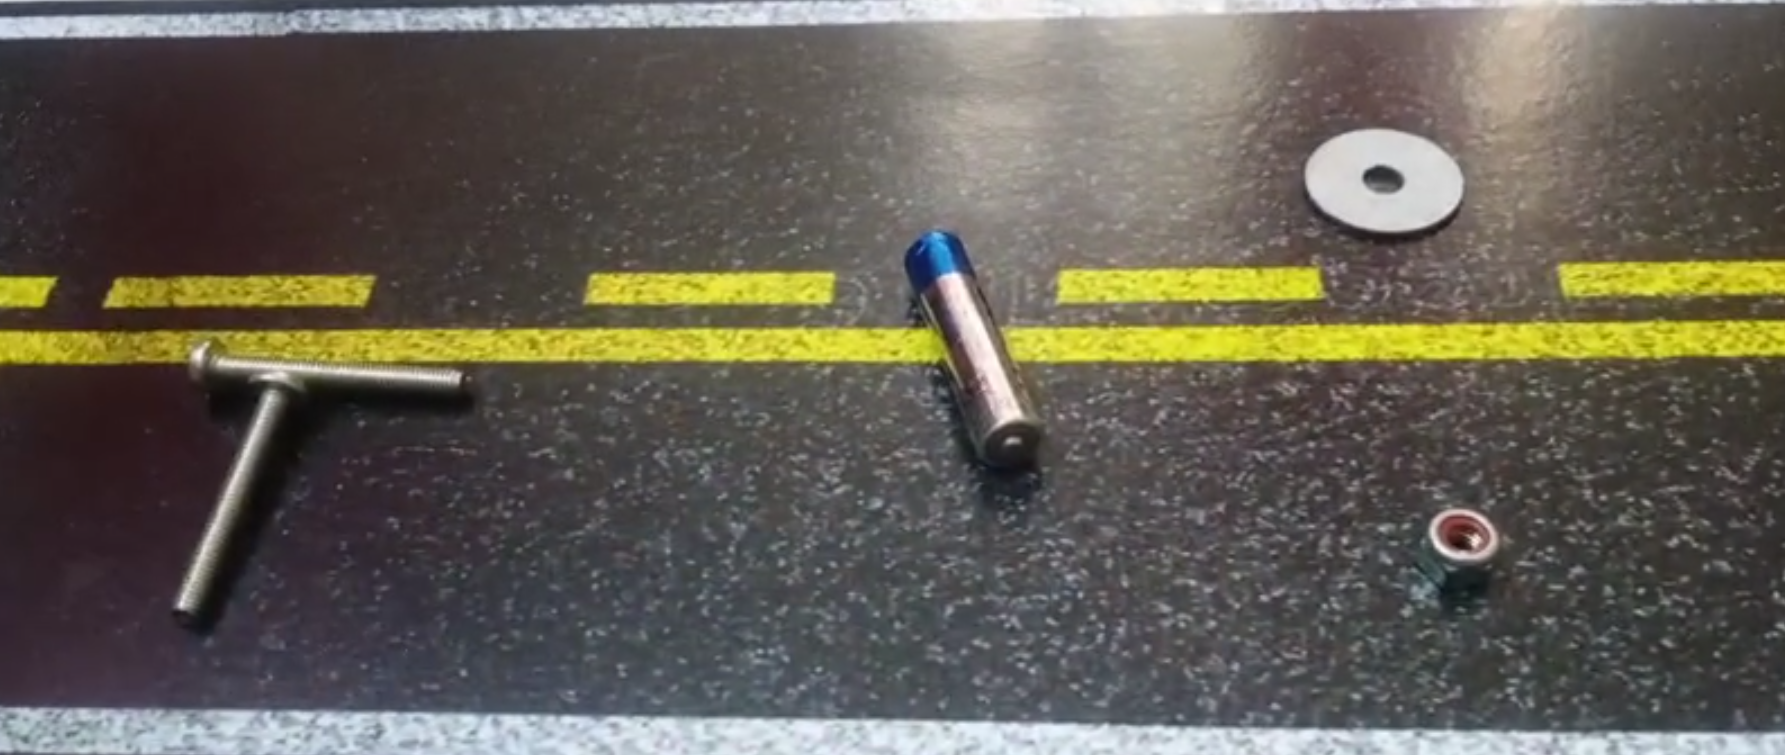metal: (164, 333, 471, 619), (870, 216, 1061, 486), (1303, 122, 1473, 249), (1418, 498, 1510, 594)
